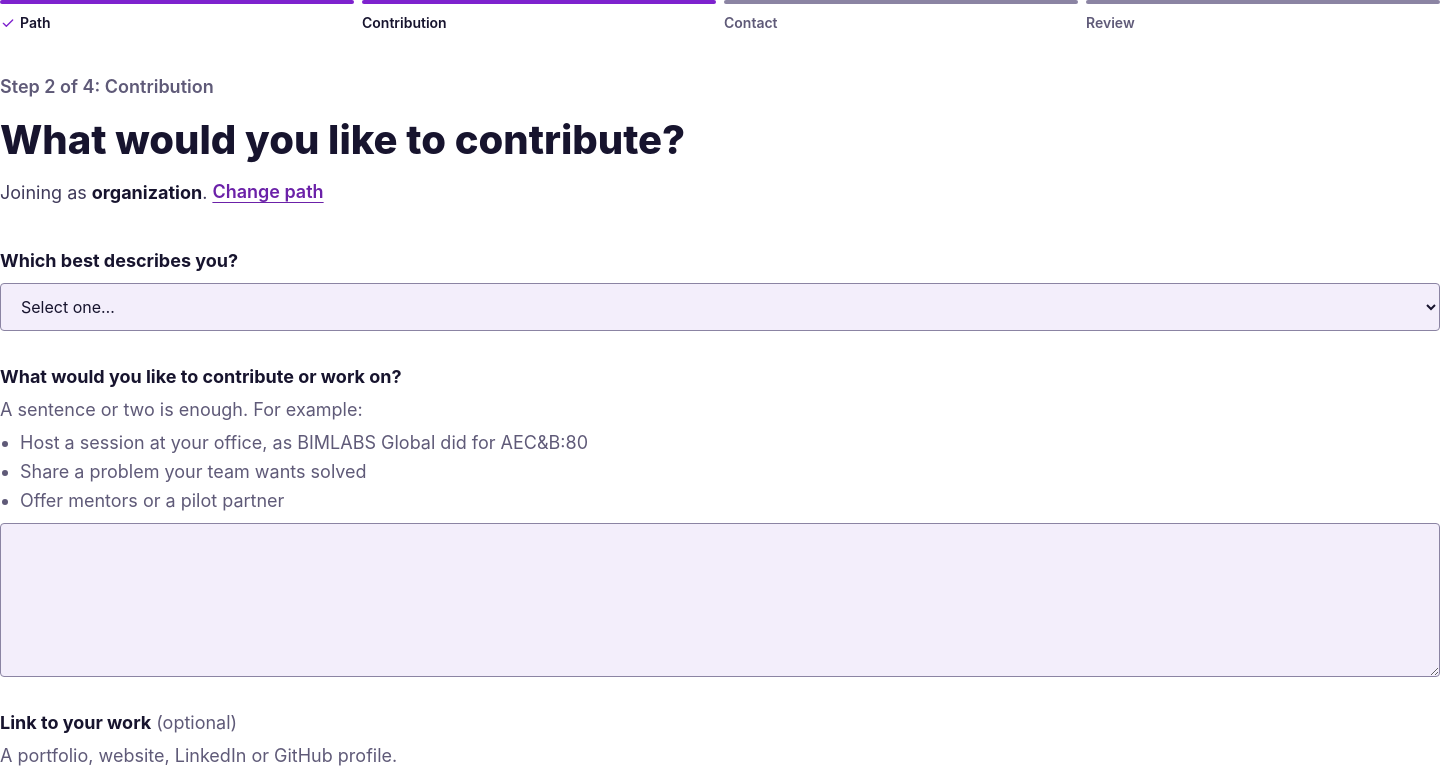
Test: JoinFlow › starts on the contribution step when a path is chosen on the homepage, and lets you change it
Expected: the heading "What would you like to contribute?" is shown, x1=0 y1=115 x2=685 y2=164
Expected: the text "organization" is shown, x1=92 y1=181 x2=202 y2=202
Click the button "Change path" at (268, 193), box x1=212 y1=171 x2=324 y2=215
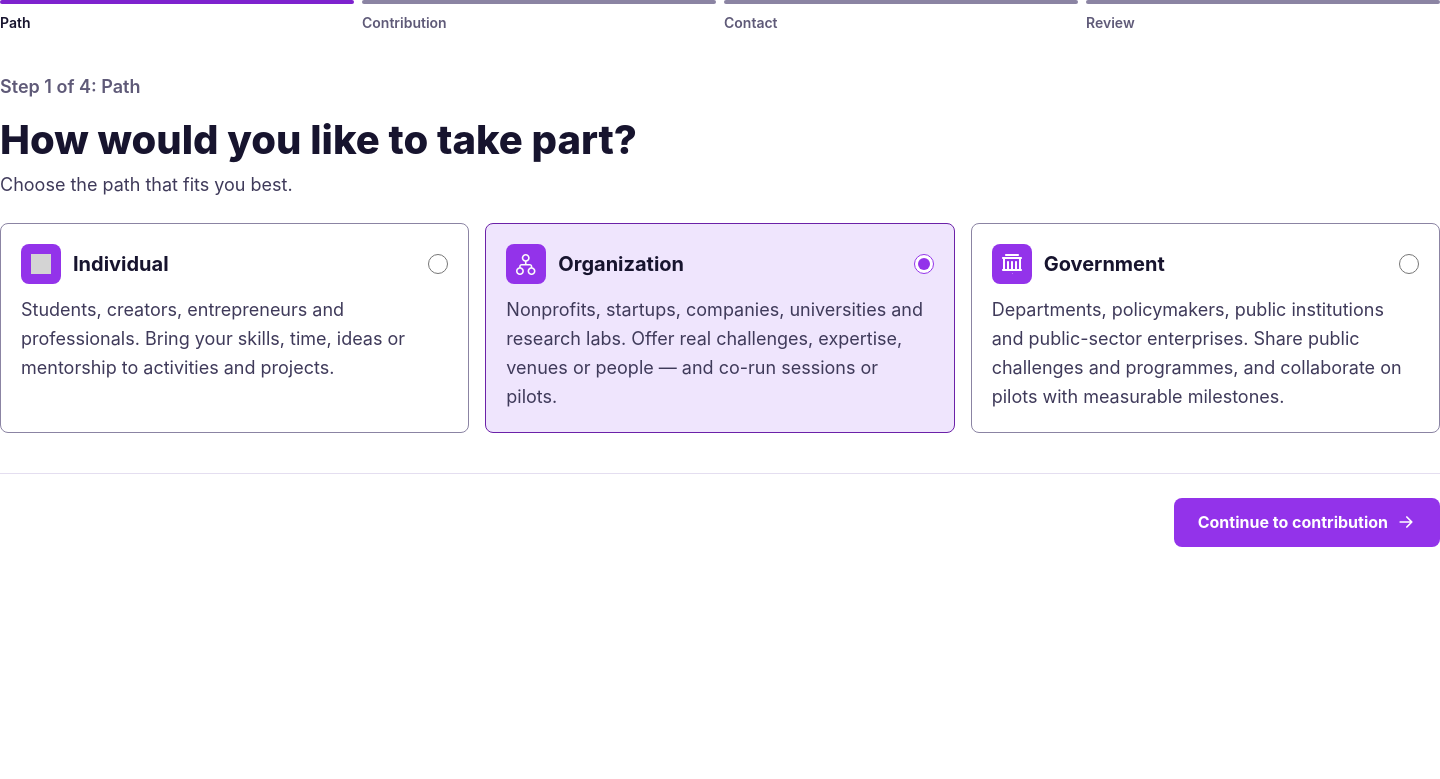
Expected: the radio button labelled "Organization" is checked, x1=914 y1=254 x2=934 y2=274
